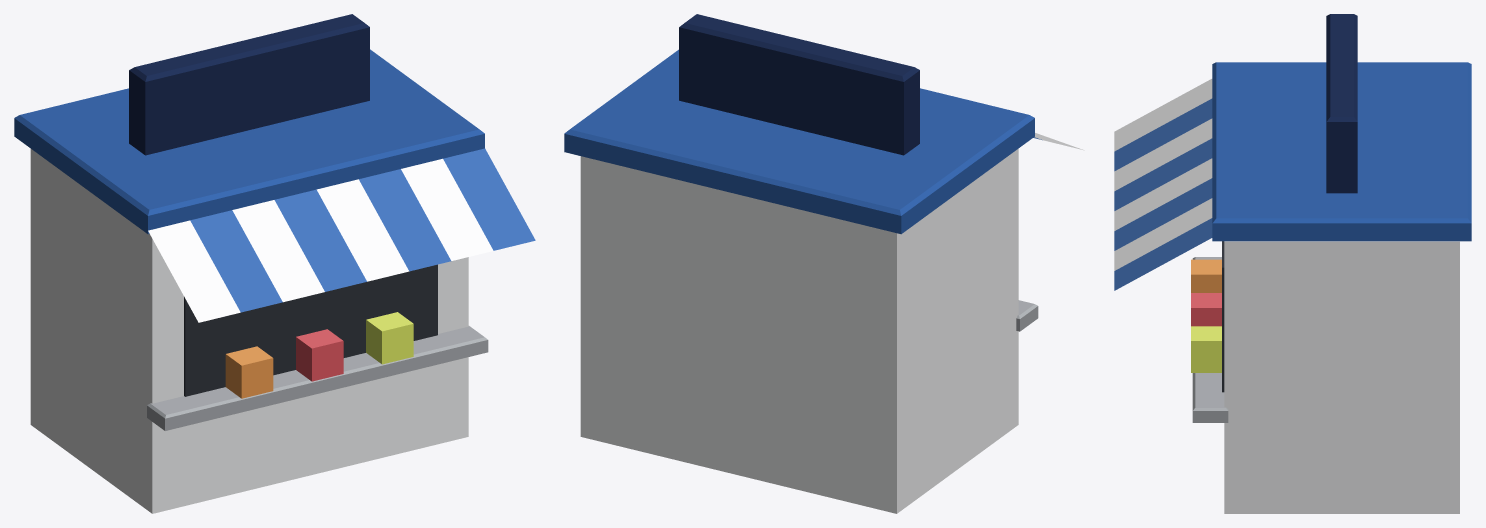
The model's file is Kiosk_tickets.glb.
3 views of the same model, side by side, from view 1: azimuth 30°, elevation 25°; view 2: azimuth 150°, elevation 25°; view 3: azimuth 270°, elevation 25° (orthographic). The views are drawn at different scales.
Parts seen in each view (by area): view 1: Kiosk_tickets; view 2: Kiosk_tickets; view 3: Kiosk_tickets.
Boxes of the visible parts, x1,y1,x2,y2 form: Kiosk_tickets: (14,14,535,513); Kiosk_tickets: (564,14,1084,513); Kiosk_tickets: (1114,14,1471,513).
Bounding box in the file's own units: 9.6 × 10.5 × 9.1.
Materials: 1 (1 with a texture image).
